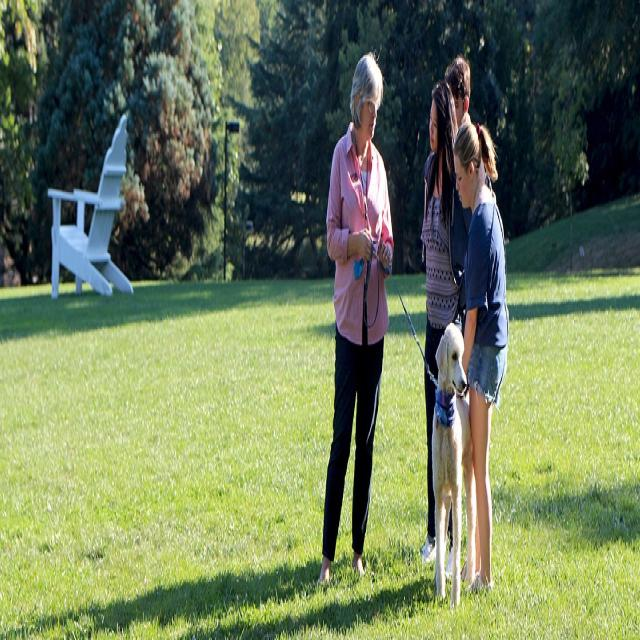body: (318, 46, 398, 595), (418, 72, 473, 592), (453, 111, 510, 608), (442, 56, 475, 136)
